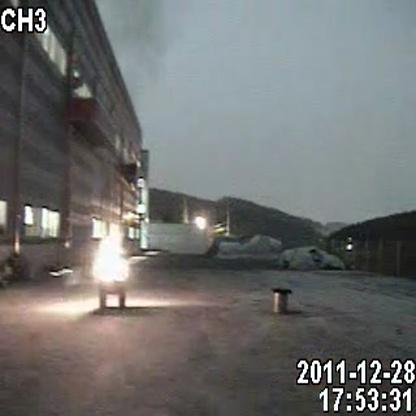Fire: (88, 219, 141, 282)
